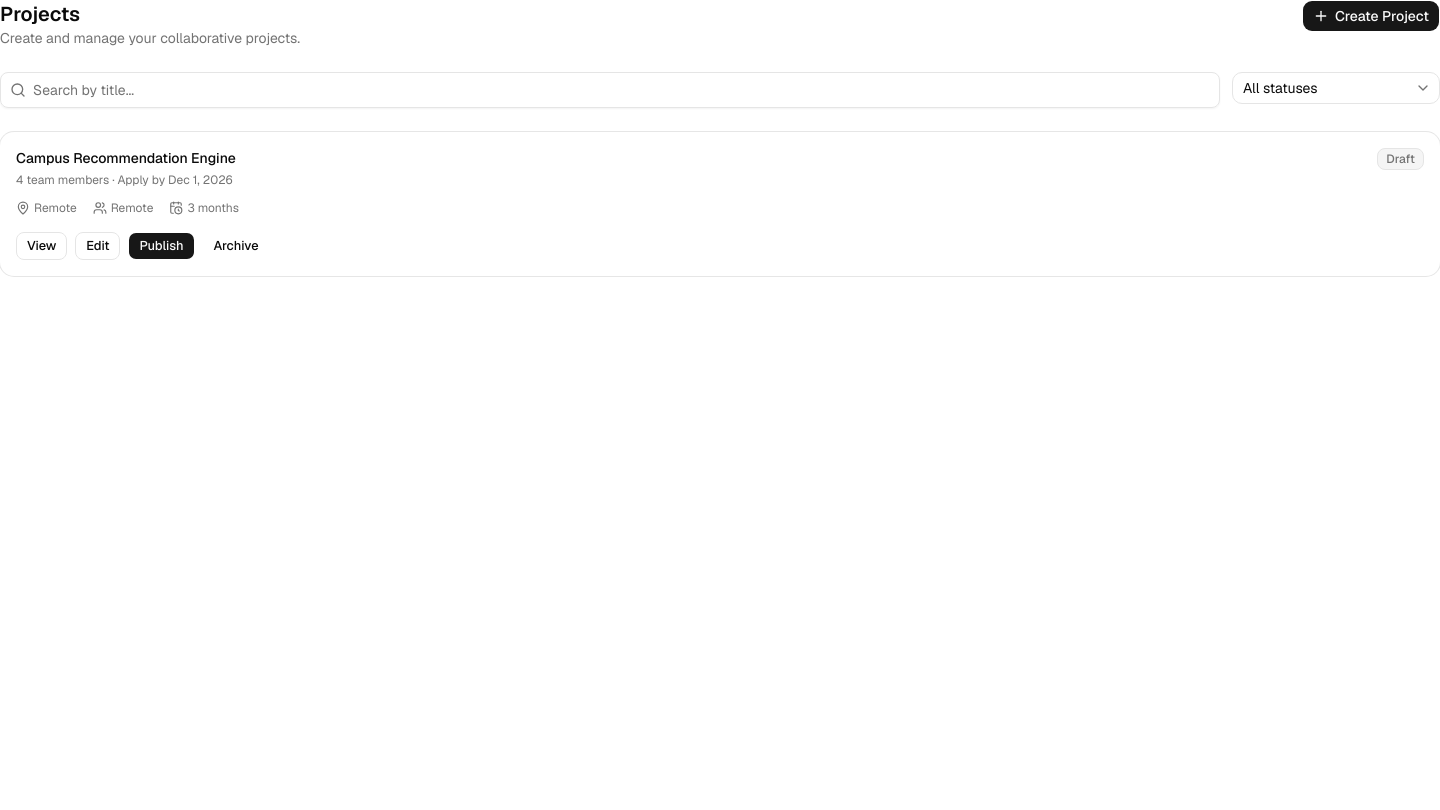
Test case: ProjectsListView › surfaces a publish error from the API
The width and height of the screenshot is (1440, 810).
Expected: the link "Campus Recommendation Engine" is shown, [16,148,236,168]
What coordinates should you click on to do the following:
click the button "Publish"
I would click on:
 (162, 246)
Its box is [128,232,195,260].
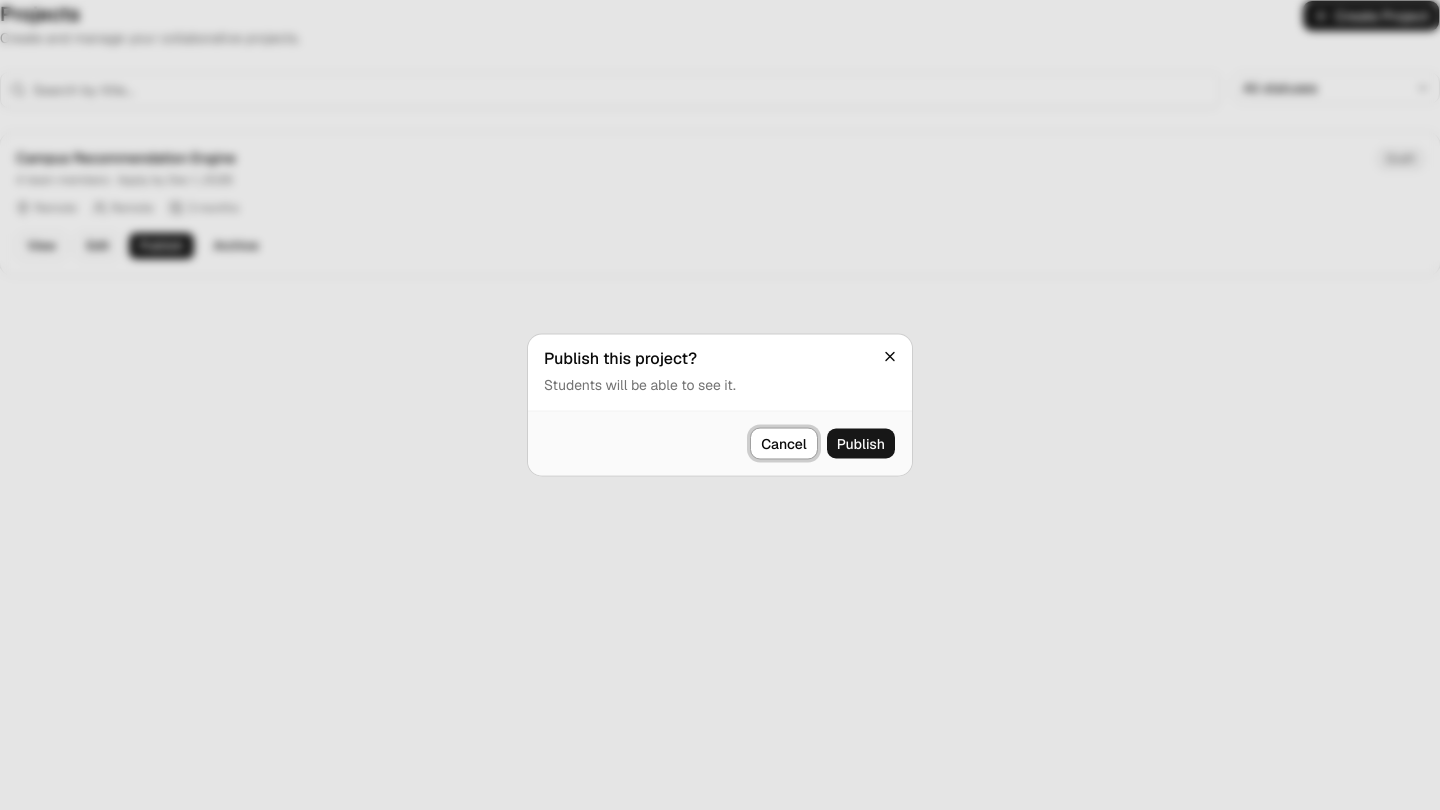
What coordinates should you click on to do the following:
click the button "Publish"
I would click on:
 (861, 444)
Its box is [826,428,896,460].
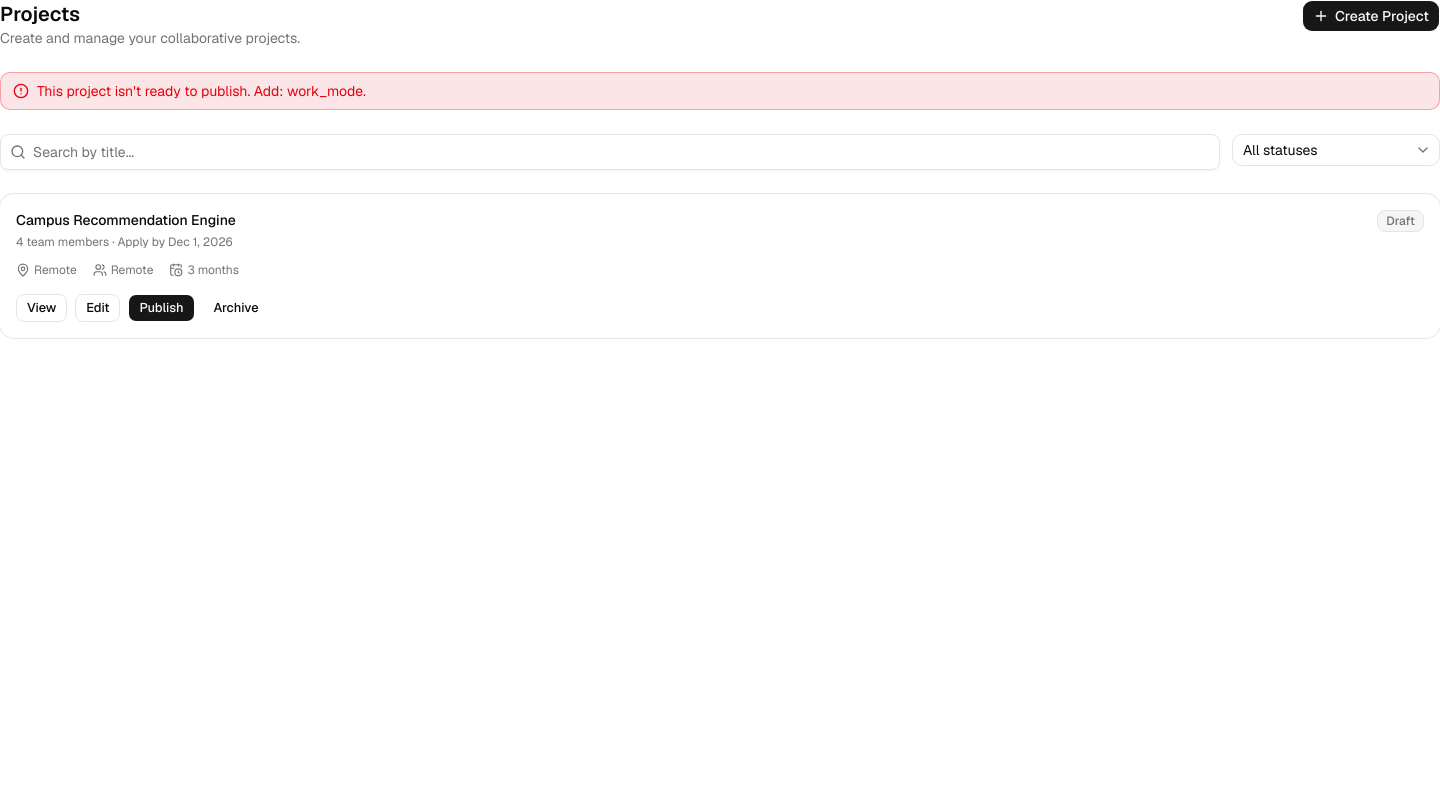
Now the text "This project isn't ready to publish. Add: work_mode." is shown, box [37,81,366,101]
